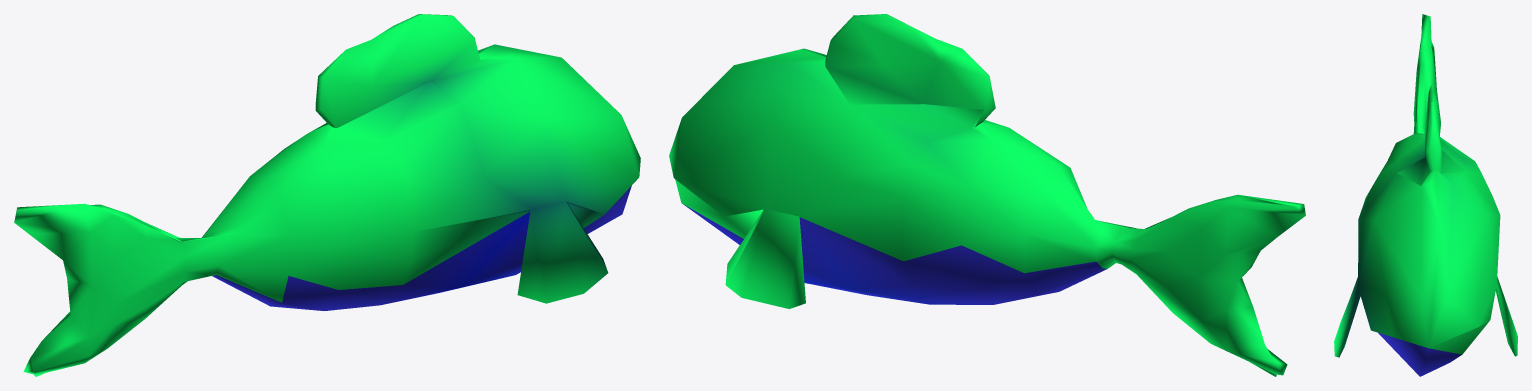
The model's file is Fish bluegill.glb.
The picture shows the model from 3 angles, left to right: view 1: azimuth 30°, elevation 25°; view 2: azimuth 150°, elevation 25°; view 3: azimuth 270°, elevation 25°; orthographic projection. The views are drawn at different scales.
Parts seen in each view (by area): view 1: fish low poly; view 2: fish low poly; view 3: fish low poly.
Part boxes in pixels (box(x1,y1,x2,y2)): fish low poly: box(14, 14, 640, 376); fish low poly: box(669, 14, 1305, 376); fish low poly: box(1334, 14, 1517, 376).
Size of the model in its own units: 0.8936 by 0.384 by 0.276.
